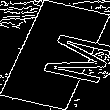M_W: (10, 25, 100, 85)
